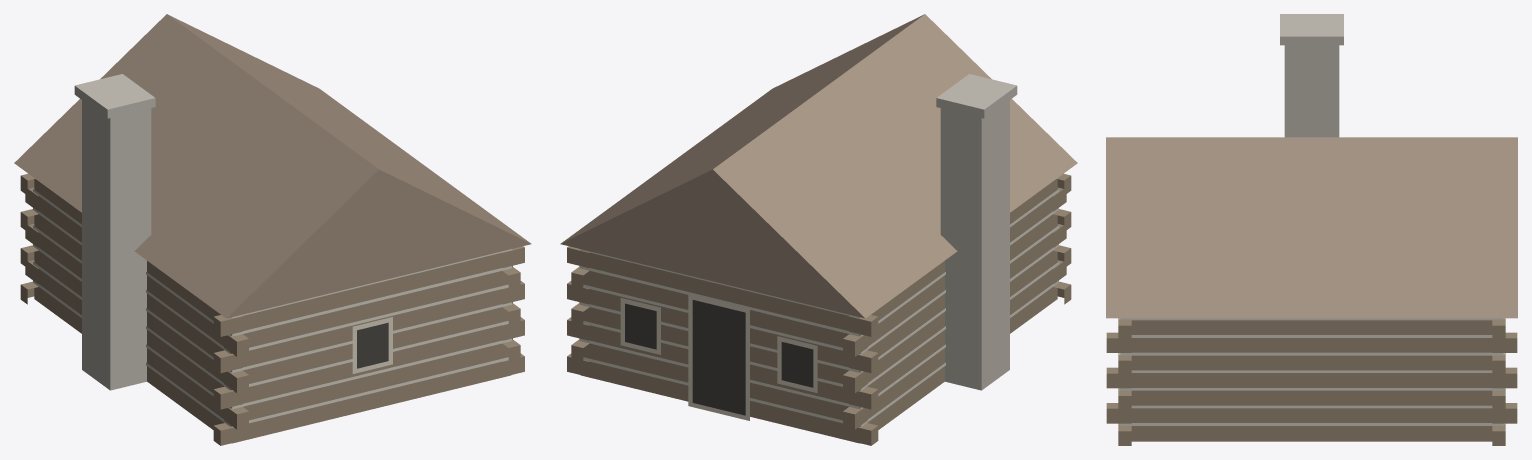
File: recon_1835_west_001__inferred_1835.glb
3 renders of one model, left to right at view 1: azimuth 30°, elevation 25°; view 2: azimuth 150°, elevation 25°; view 3: azimuth 270°, elevation 25°, orthographic. The views are drawn at different scales.
Visible parts, largest first — view 1: recon_1835_west_001__inferred_1835; view 2: recon_1835_west_001__inferred_1835; view 3: recon_1835_west_001__inferred_1835.
Boxes of the visible parts, x1,y1,x2,y2 form: recon_1835_west_001__inferred_1835: (14, 14, 531, 445); recon_1835_west_001__inferred_1835: (560, 14, 1077, 445); recon_1835_west_001__inferred_1835: (1106, 14, 1517, 445).
Size of the model in its own units: 6.56 by 5.38 by 7.21.
